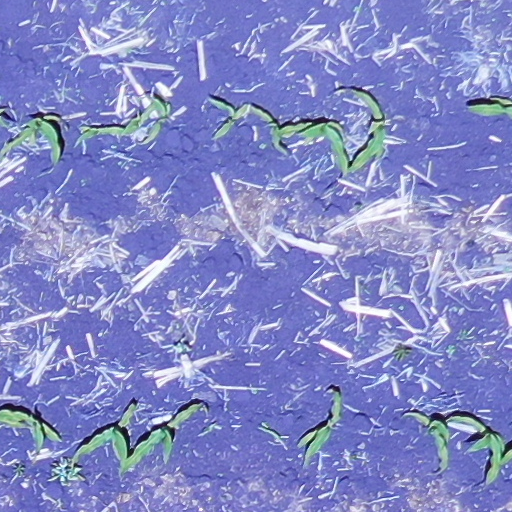planta: (411, 412, 505, 481), (121, 403, 201, 471), (75, 403, 138, 468), (275, 119, 350, 172), (344, 89, 388, 173), (300, 391, 342, 460), (248, 105, 284, 149), (212, 99, 248, 138), (145, 95, 171, 142), (122, 102, 159, 134), (80, 125, 127, 140)
